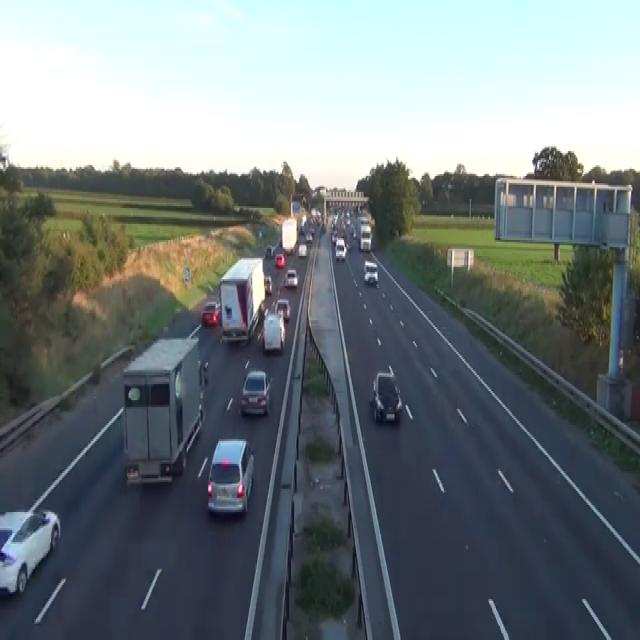Car: (0, 506, 60, 596), (206, 438, 254, 516), (370, 370, 402, 423), (239, 370, 271, 416), (262, 311, 285, 354), (200, 299, 220, 327), (275, 297, 290, 322), (363, 260, 378, 284), (283, 268, 298, 288), (335, 238, 346, 262), (274, 252, 285, 266), (264, 274, 272, 293), (298, 244, 307, 258), (360, 224, 371, 235), (358, 215, 368, 226), (265, 245, 273, 258), (285, 244, 293, 254), (331, 231, 337, 244), (305, 231, 312, 242), (258, 230, 262, 237)
Truck: (122, 334, 206, 486), (218, 256, 265, 343), (281, 217, 297, 254), (359, 224, 372, 251)
